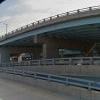Bridge: (1, 6, 100, 57)
